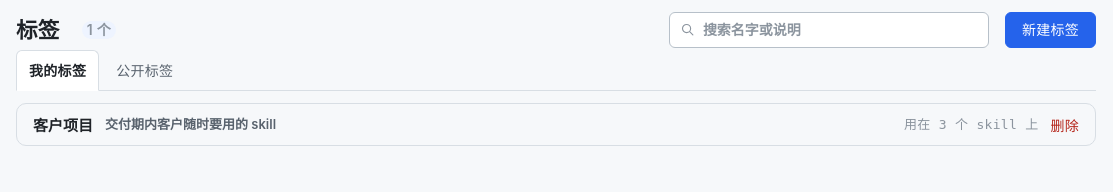
Test: editing in place › shows a refused description, then clears the failure when the retry succeeds
The width and height of the screenshot is (1113, 192).
Click the button with class "tag-desc" at (191, 124), box [105, 115, 892, 134]
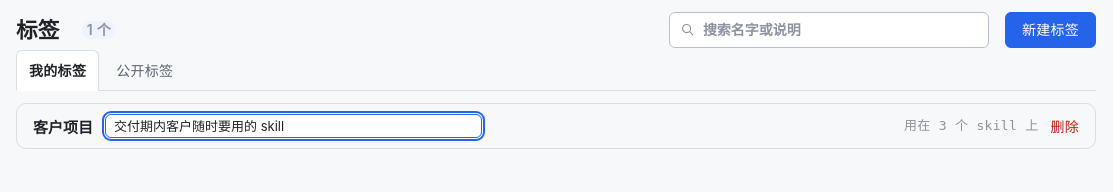
Replace the text in the field with id "tagDescription" with "新的说明" at (294, 126), box [105, 114, 482, 138]
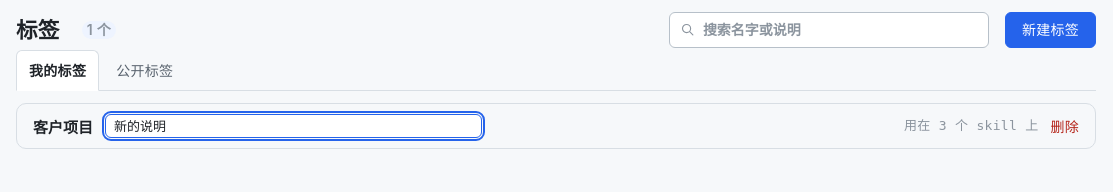
Press Enter in the field with id "tagDescription", box [105, 114, 482, 138]
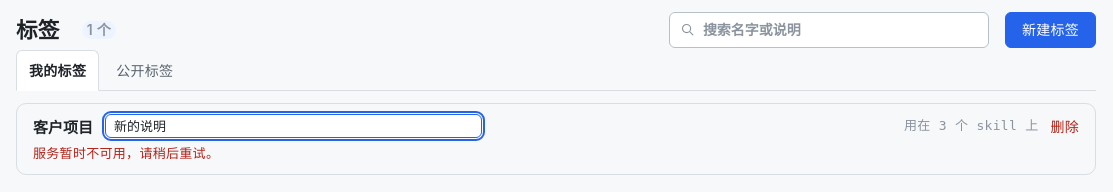
Result: the message with class "tag-edit-error" reads "服务暂时不可用，请稍后重试。" at [33, 145, 219, 161]
Retry in place: the editor is still open, and a success must take the old error with it.
Press Enter in the field with id "tagDescription", box [105, 114, 482, 138]
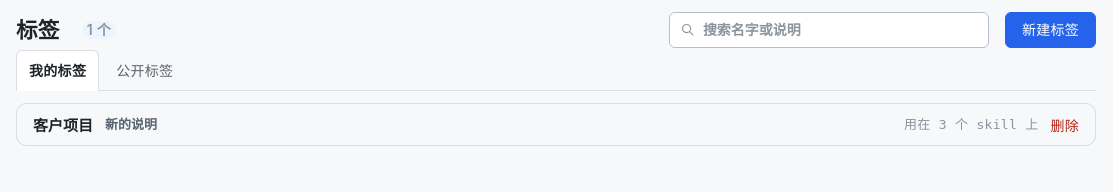
Result: the message with class "tag-edit-error" is gone
Result: the button with class "tag-desc" reads "新的说明" at [105, 115, 892, 134]
